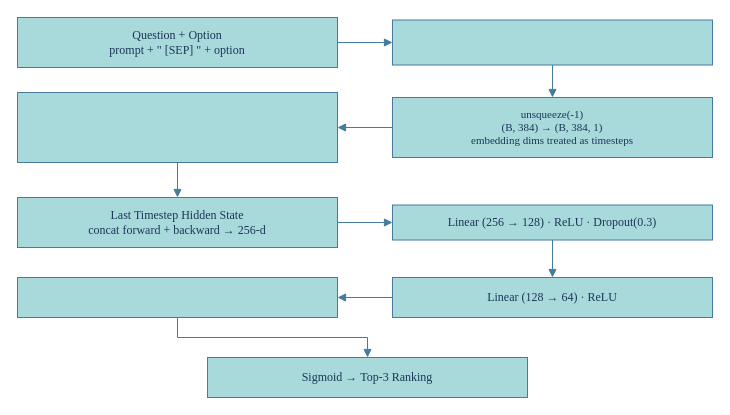
The diagram is 730 pixels wide and 415 high, and some of its shapes have lost their labels. Each missing label, with the centre of its shape:
BiLSTM input_size=1 · hidden=128 num_layers=2 · bidirectional dropout=0.3: the point at 177,127
Frozen MiniLM Embedding 384-d vector: the point at 552,42
Output Linear (64 → 1): the point at 177,297
